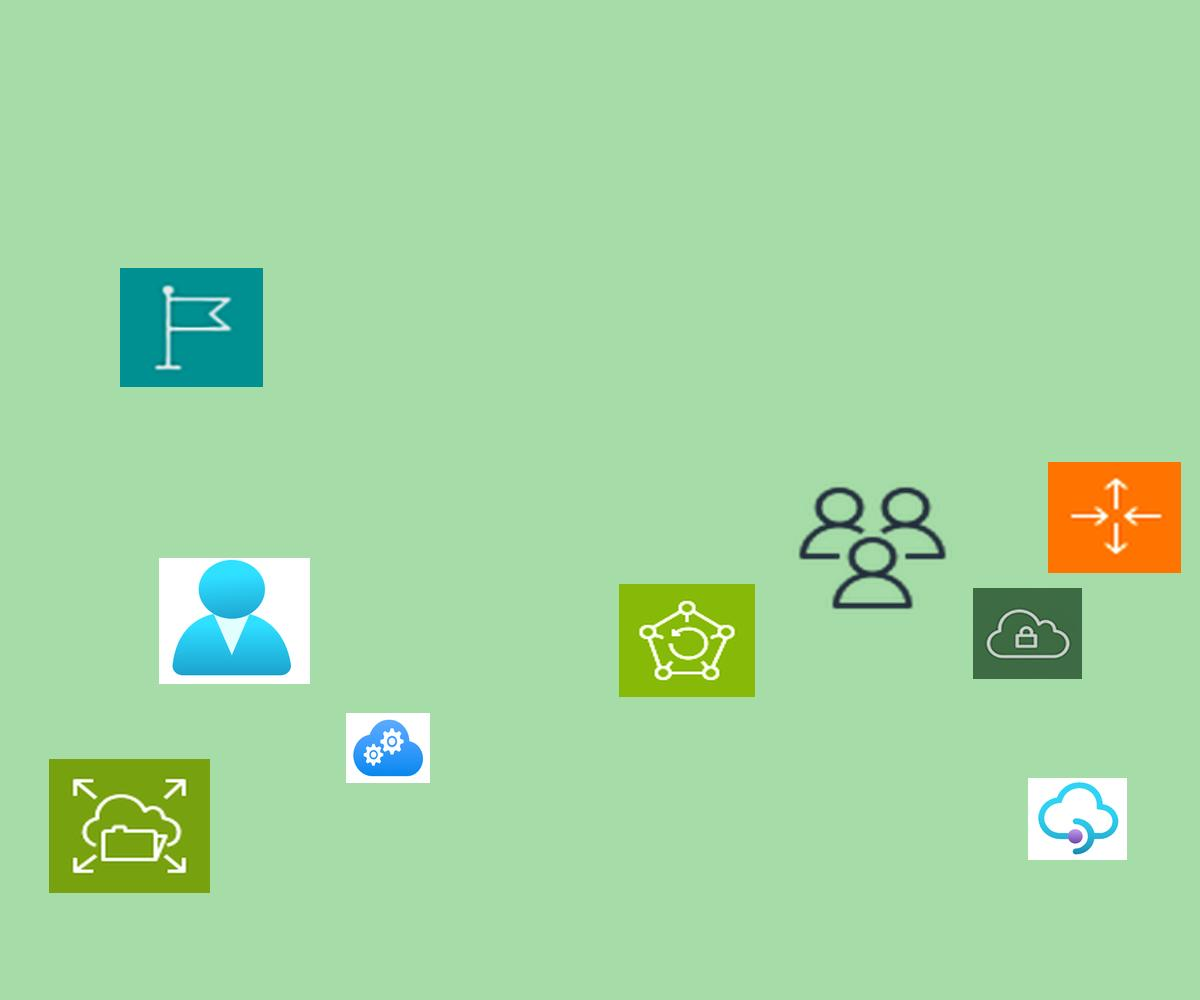AWS-Backup: (619, 584, 755, 697)
AWS-EFS: (49, 759, 210, 893)
AWS-Private_vpc: (973, 588, 1082, 679)
AWS-Region: (120, 268, 263, 387)
AWS-Res_Users: (793, 482, 952, 614)
AWS-Scaling-group: (1048, 462, 1181, 573)
Azure_api_gateway: (1028, 778, 1127, 860)
Azure_cloud_services: (346, 713, 430, 783)
Azure_users: (159, 558, 310, 684)
